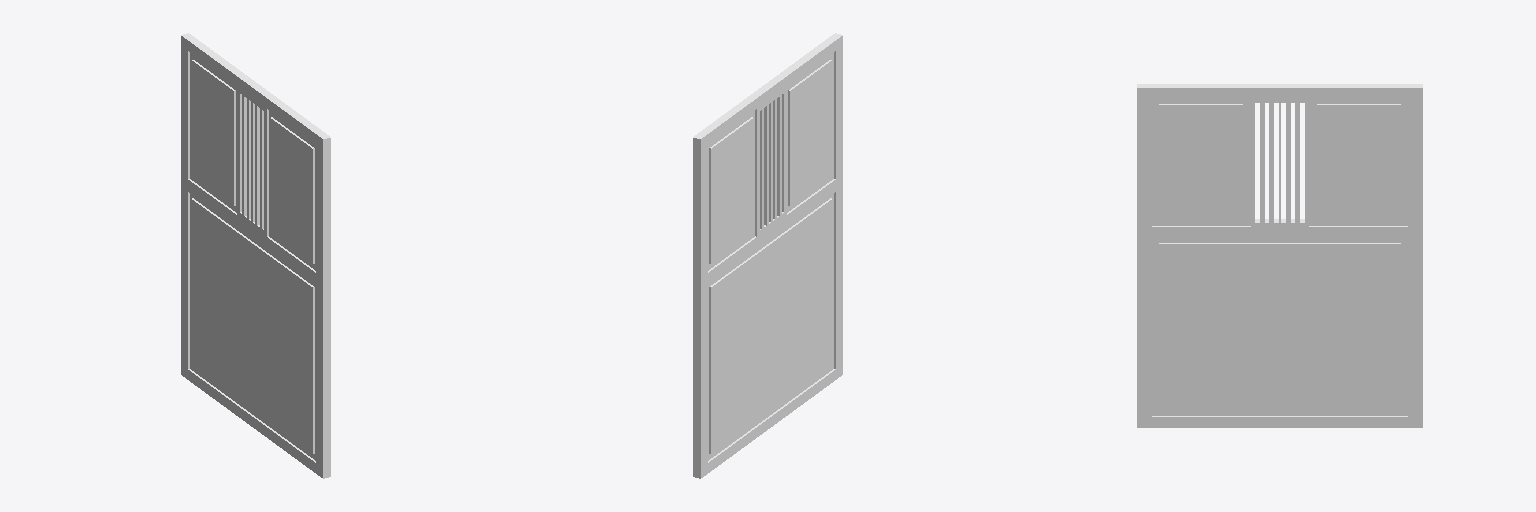
The model's file is MovableDoor.obj.
3 renders of one model, left to right at view 1: azimuth 30°, elevation 25°; view 2: azimuth 150°, elevation 25°; view 3: azimuth 270°, elevation 25°, orthographic.
Visible parts, largest first — view 1: object 1; view 2: object 1; view 3: object 1.
Boxes of the visible parts, box(x1,y1,x2,y2) form: object 1: box(181, 33, 330, 478); object 1: box(693, 33, 842, 478); object 1: box(1137, 84, 1422, 427).
Bounding box in the file's own units: 0.4 × 15.9 × 12.1.